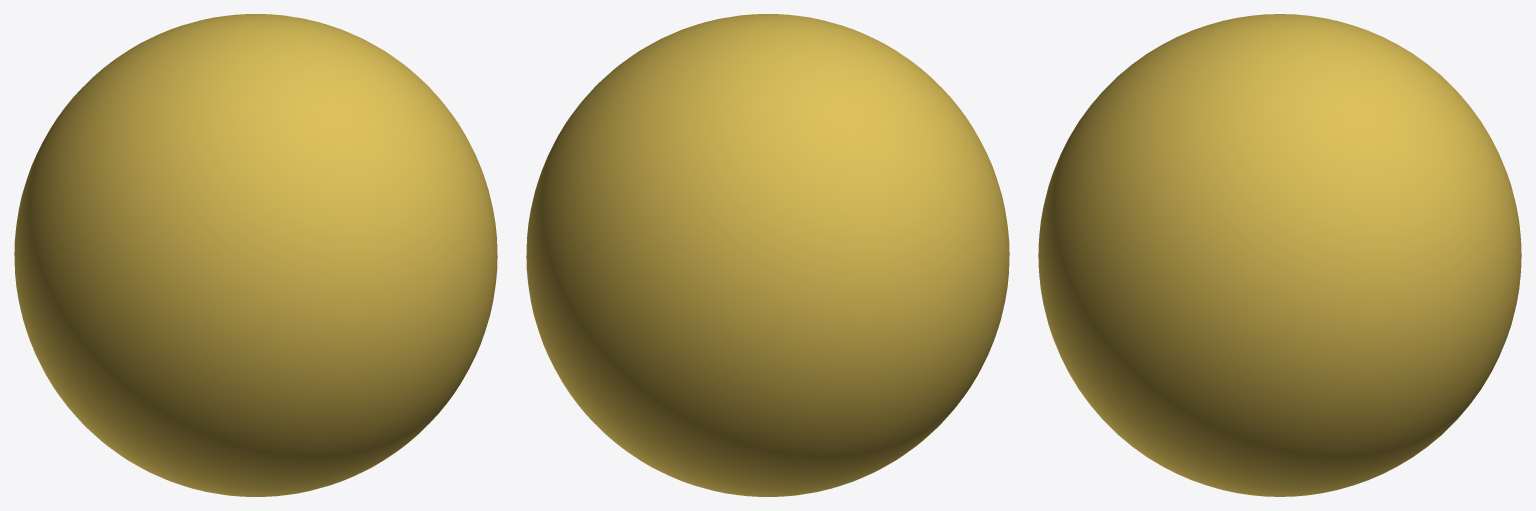
Rendered from electron-dot.glb.
3 views of the same model, side by side, from view 1: azimuth 30°, elevation 25°; view 2: azimuth 150°, elevation 25°; view 3: azimuth 270°, elevation 25° (orthographic).
Visible parts, largest first — view 1: electron-dot-dot; view 2: electron-dot-dot; view 3: electron-dot-dot.
Boxes of the visible parts, left/top/right/bottom form: electron-dot-dot: left=14, top=14, right=497, bottom=496; electron-dot-dot: left=526, top=14, right=1009, bottom=496; electron-dot-dot: left=1038, top=14, right=1521, bottom=496.
Size of what is drawn, in the model's own units: 2 by 2 by 2.
